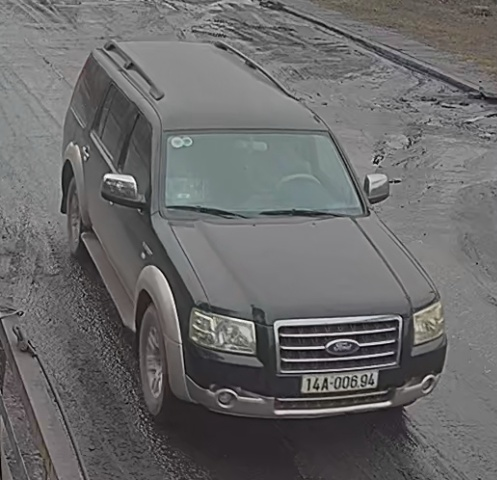vehicle plate: (296, 368, 391, 392)
